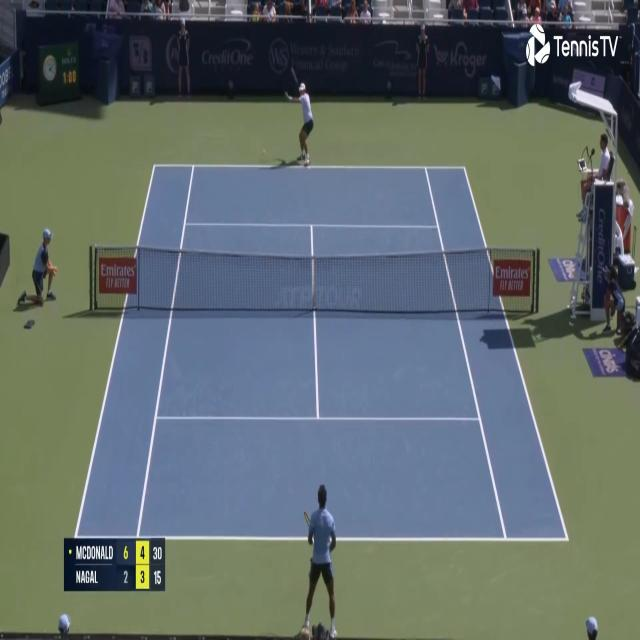tennis-player: (300, 482, 338, 638), (282, 78, 316, 170)
